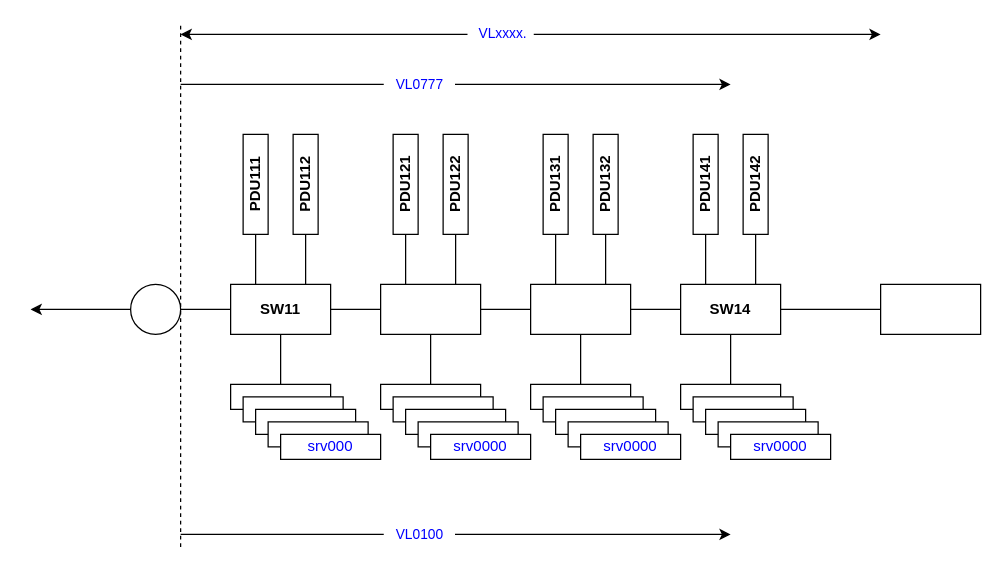
Some shapes in this 1003 by 570 pixel diagram are drawn without their labels. Each missing label, with the centre of its shape:
SR03: pixel 155 308
SW01: pixel 930 308
SW12: pixel 430 308
SW13: pixel 580 308
